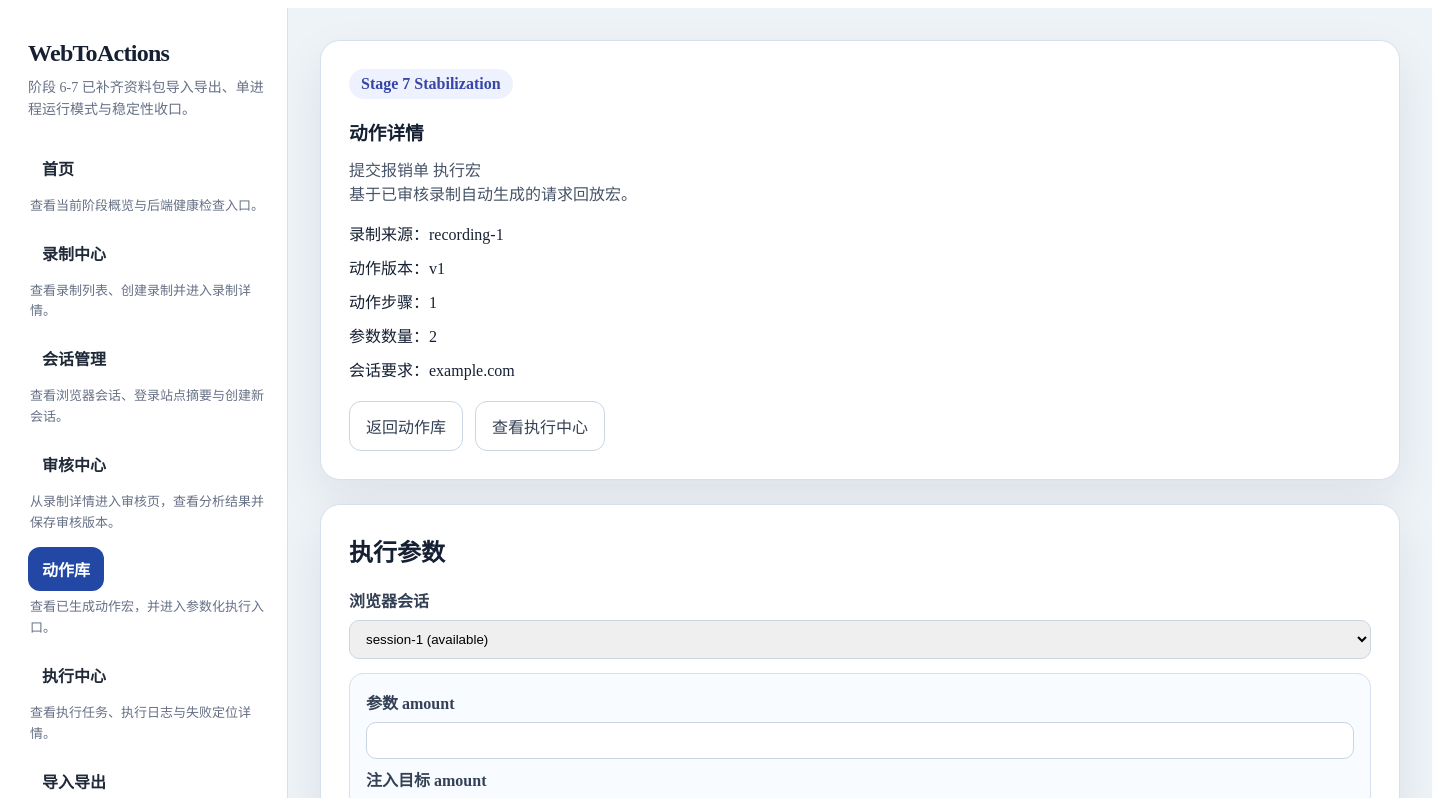
Scenario: App › starts an execution from action detail and updates execution detail from the stage 5 stream
Check: the heading "动作详情" is shown, box x1=349 y1=123 x2=424 y2=144
Select "session-1 (available)" in the dropdown labelled "浏览器会话" at [860, 639], box x1=349 y1=620 x2=1371 y2=659
Type "208" into the field labelled "参数 amount" at [860, 740], box x1=366 y1=722 x2=1354 y2=759
(page scrolled)
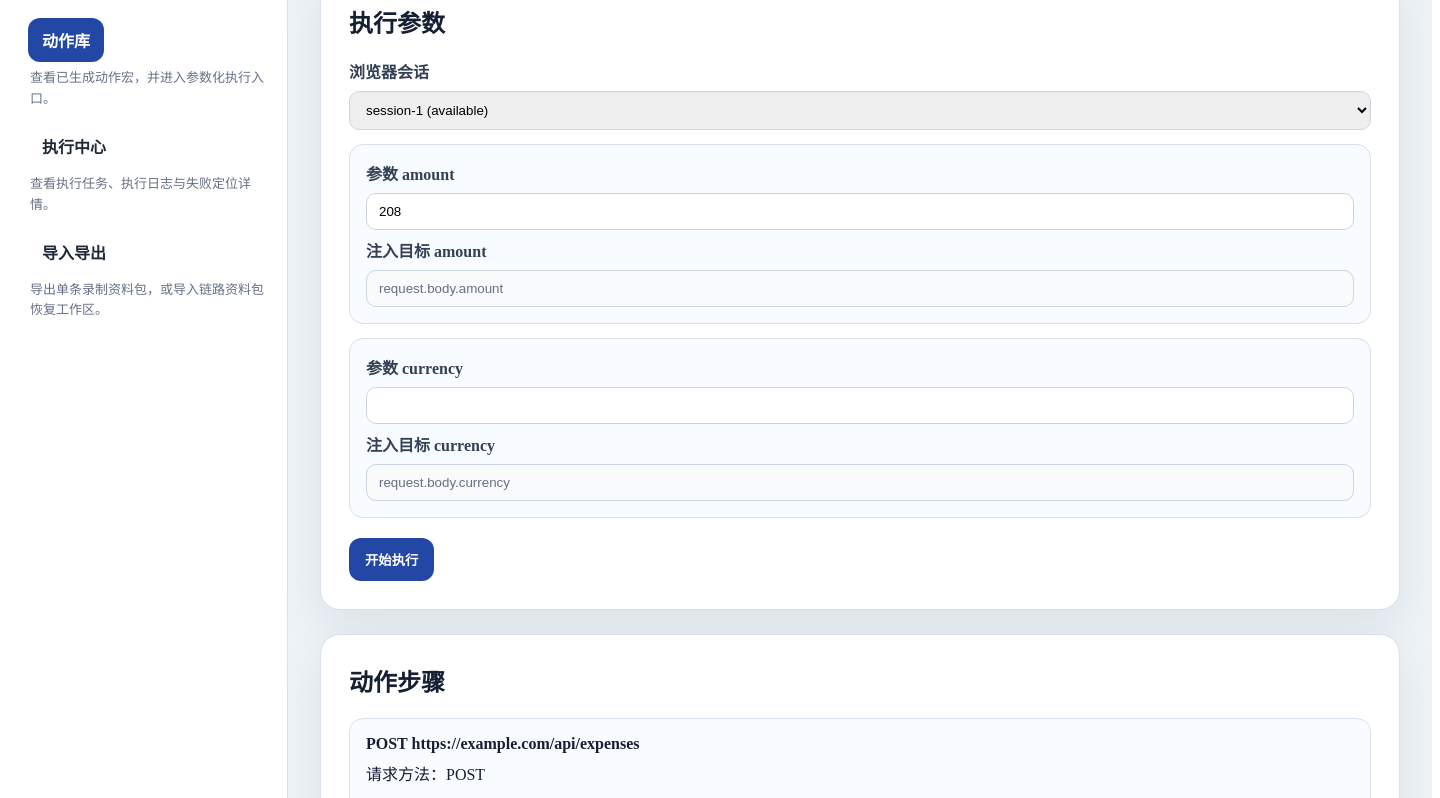
Type "USD" into the field labelled "参数 currency" at [860, 405], box x1=366 y1=387 x2=1354 y2=424
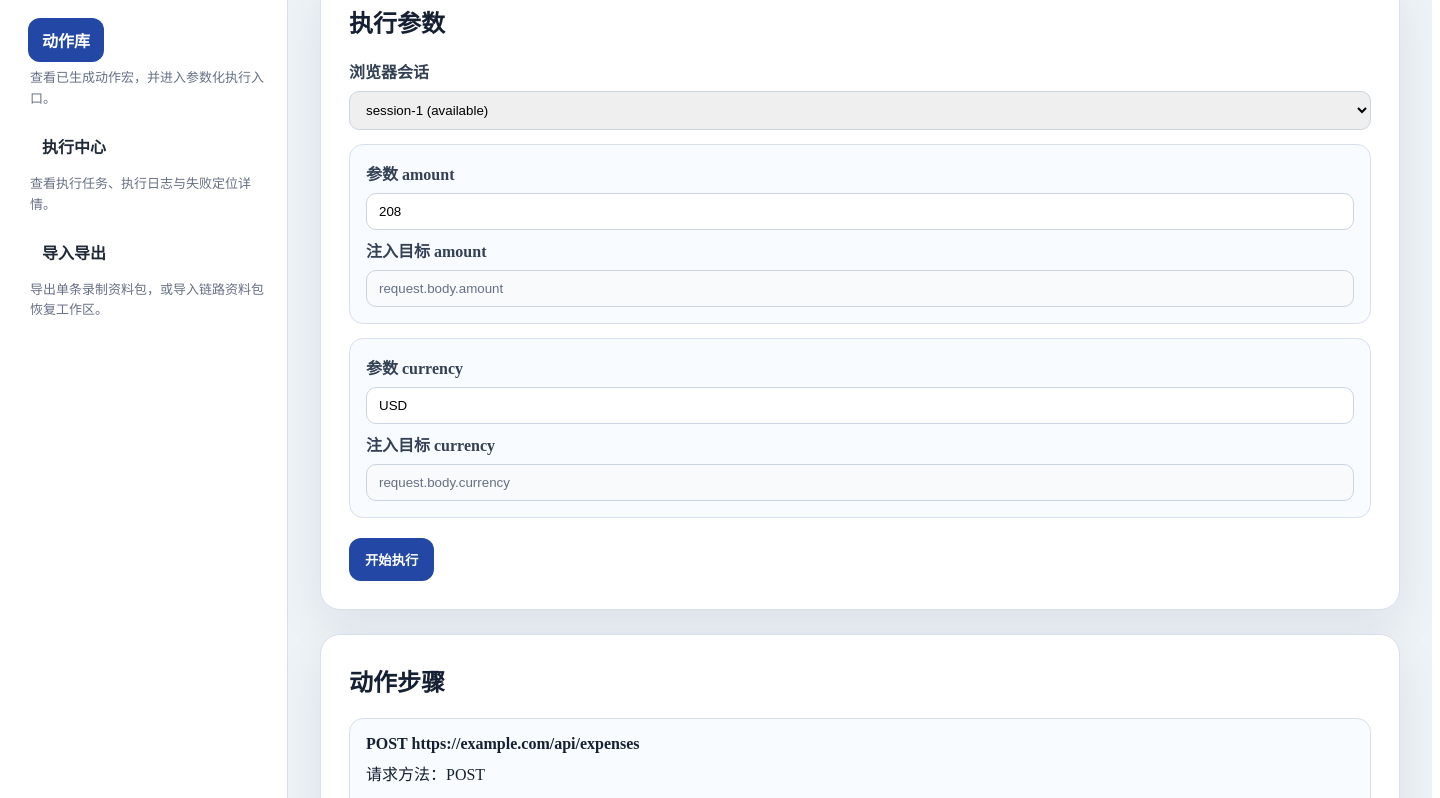
Click the button "开始执行" at [392, 559], box x1=349 y1=538 x2=434 y2=581
(page scrolled)
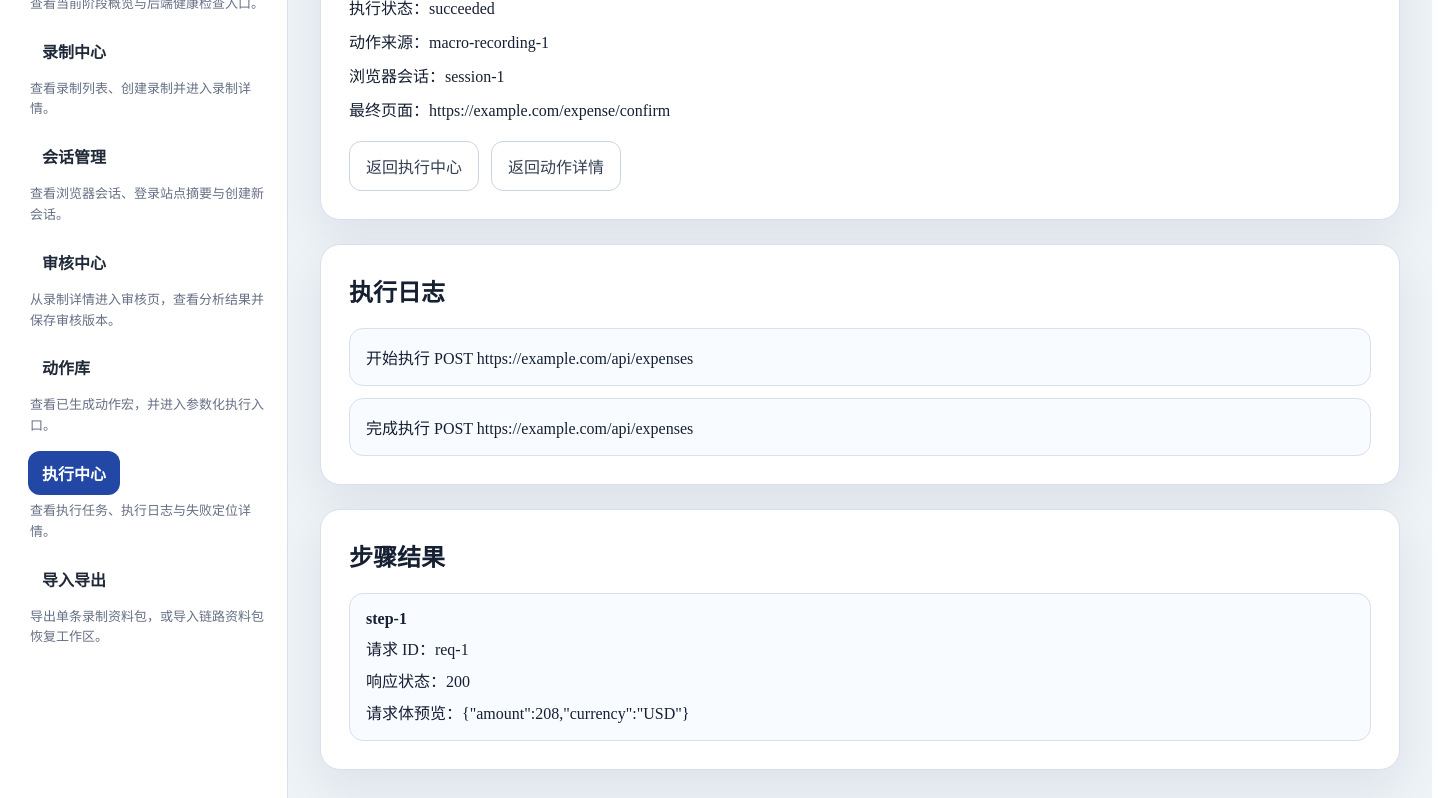
Check: the text "执行状态：succeeded" is shown, box x1=349 y1=0 x2=495 y2=17
Check: the text "完成执行 POST https://example.com/api/expenses" is shown, box x1=366 y1=420 x2=693 y2=437
Check: the text "最终页面：https://example.com/expense/confirm" is shown, box x1=349 y1=102 x2=670 y2=119
